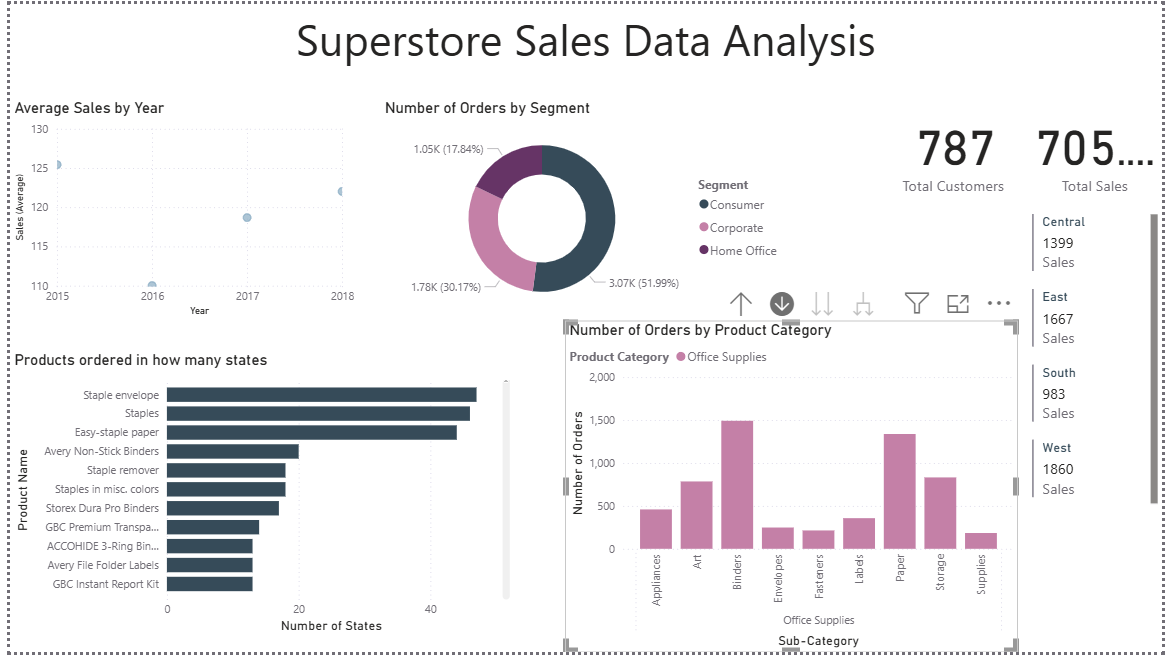

Layout of this report page (visuals, bound fields, positions):
{"tool":"powerbi","page":{"name":"Page 1","canvas":[1280,720],"ordinal":0},"visuals":[{"type":"scatterChart","title":"Average Sales by Year","fields":{"Y":["Avg(train.Sales)"],"X":["train.Order Year"]},"box":[0,105,386.7,246.7],"z":0},{"type":"card","fields":{"Values":["Count(train.Customer ID)"]},"box":[970,105,160,116.7],"z":1000},{"type":"clusteredBarChart","title":"Products ordered in how many states","fields":{"Category":["train.Product Name"],"Y":["CountNonNull(train.State)"]},"box":[0,385,560,318.3],"z":2000},{"type":"multiRowCard","fields":{"Values":["train.Region","CountNonNull(train.Sales (bins))"]},"box":[1130,228.3,150,343.3],"z":3000},{"type":"clusteredColumnChart","title":"Number of Orders by Product Category ","fields":{"Category":["train.Category","train.Sub-Category"],"Y":["CountNonNull(train.Order ID)"],"Series":["train.Category"]},"box":[616.7,351.7,503.3,368.3],"z":4000},{"type":"card","fields":{"Values":["Sum(train.Sales)"]},"box":[1130,105,150,116.7],"z":5000},{"type":"donutChart","fields":{"Series":["train.Segment"],"Y":["CountNonNull(train.Order ID)"]},"box":[411.7,105,455,246.7],"z":6000},{"type":"textbox","box":[0,0,1280,81.7],"z":7000}]}

Visuals, with their boxes in screenshot pixels (x1, y1, x2, y2), scaled from the page's 1280x720 canvas onto the 1173x663 screenshot:
"Average Sales by Year" scatterChart: Rect(0, 97, 354, 324)
card - Count(train.Customer ID): Rect(889, 97, 1036, 204)
"Products ordered in how many states" clusteredBarChart: Rect(0, 355, 513, 648)
multiRowCard - train.Region x CountNonNull(train.Sales (bins)): Rect(1036, 210, 1172, 526)
"Number of Orders by Product Category " clusteredColumnChart: Rect(565, 324, 1026, 662)
card - Sum(train.Sales): Rect(1036, 97, 1172, 204)
donutChart - train.Segment x CountNonNull(train.Order ID): Rect(377, 97, 794, 324)
textbox: Rect(0, 0, 1172, 75)
